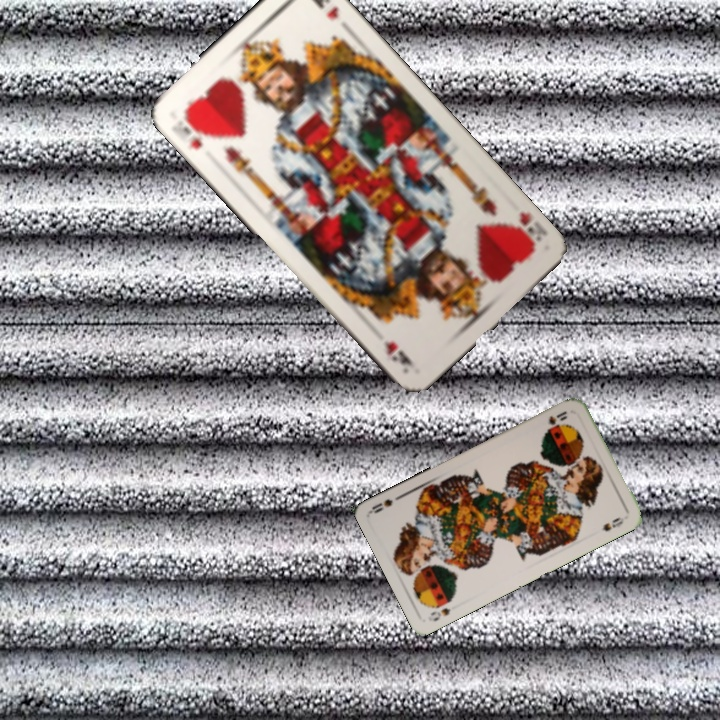HK: (505, 207, 550, 254), (175, 107, 211, 152)
SO: (543, 407, 570, 433), (426, 603, 453, 624)
